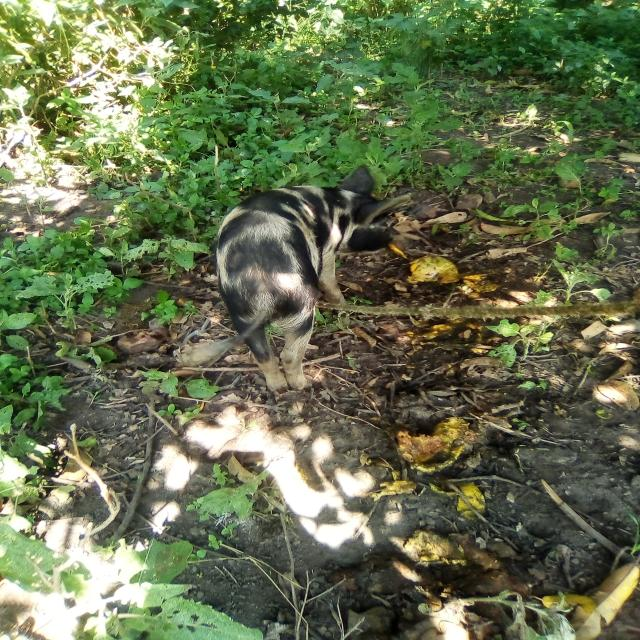pig: (159, 148, 454, 430)
